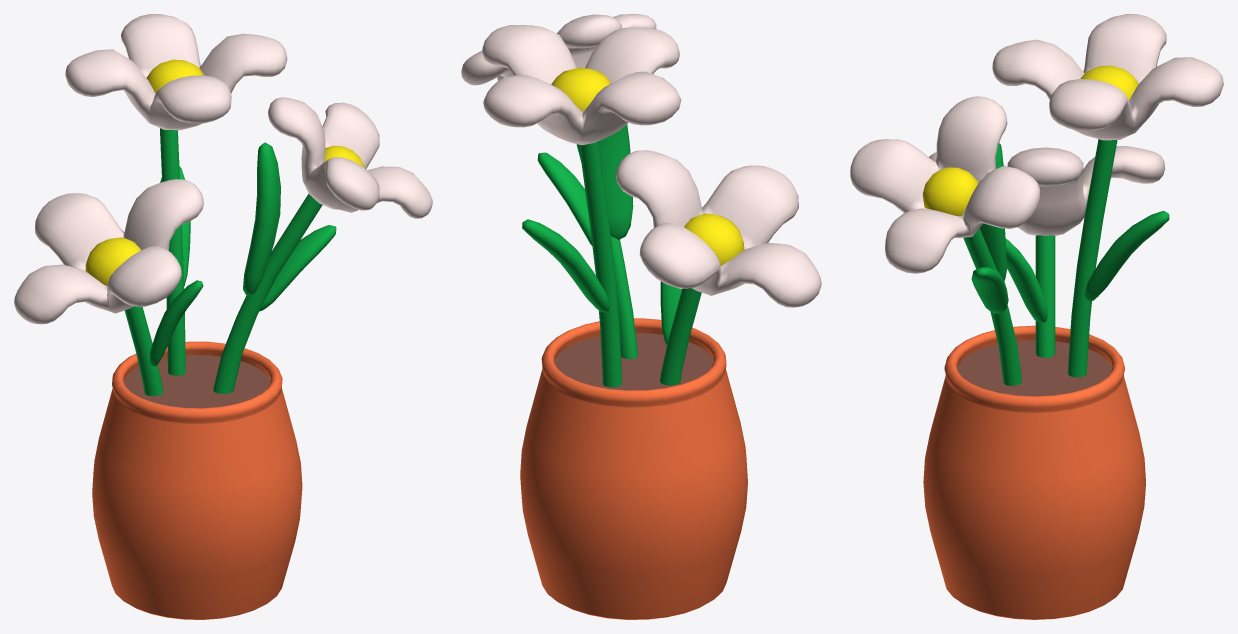
The model's file is Town_13_Flower_1.glb.
The picture shows the model from 3 angles, left to right: view 1: azimuth 30°, elevation 25°; view 2: azimuth 150°, elevation 25°; view 3: azimuth 270°, elevation 25°; orthographic projection. The views are drawn at different scales.
Parts seen in each view (by area): view 1: Town_13_Flower_1; view 2: Town_13_Flower_1; view 3: Town_13_Flower_1.
Part boxes in pixels (<box>): Town_13_Flower_1: <box>14,14,432,619</box>; Town_13_Flower_1: <box>461,14,821,619</box>; Town_13_Flower_1: <box>850,14,1223,619</box>.
Size of the model in its own units: 0.9526 by 1.33 by 0.8356.
1 material, 1 textured.
